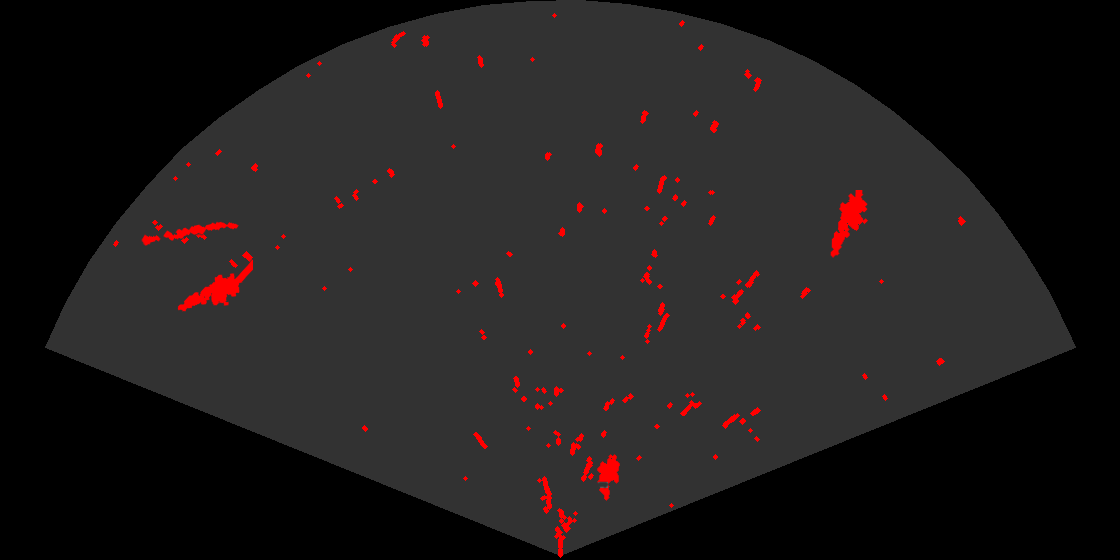AUV: (596, 453, 621, 502)
chain: (139, 220, 240, 247)
frogman: (176, 258, 253, 313), (829, 190, 870, 258)
